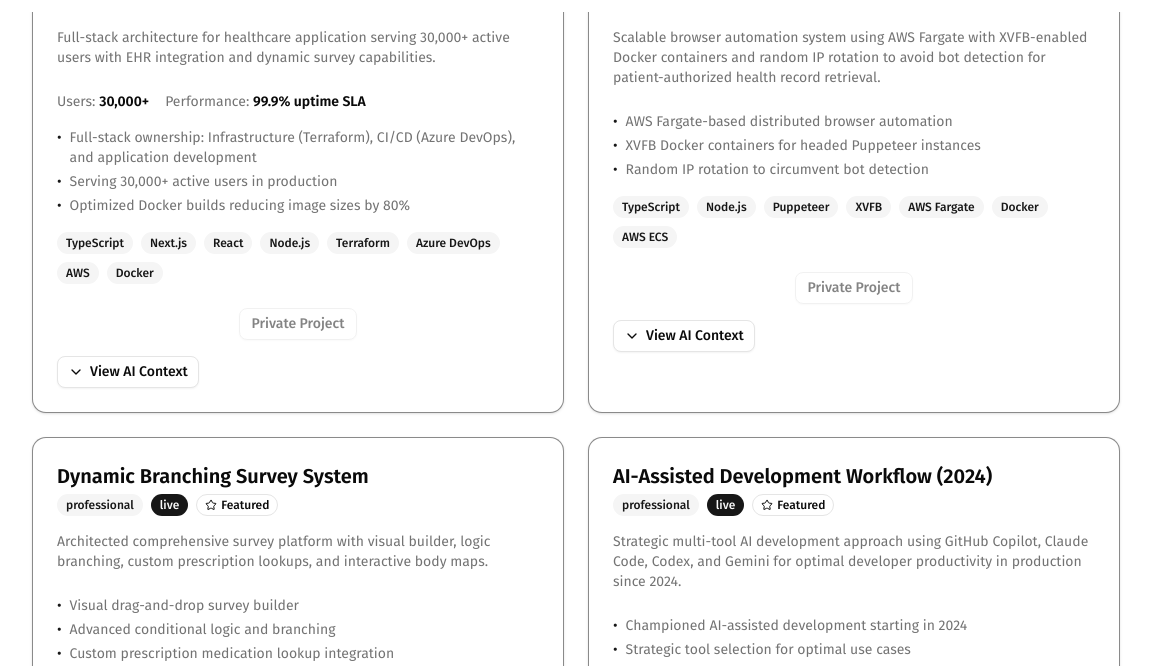
Test: ProjectsPage - T014: ExpandableContext Integration › Context Expansion Functionality › should expand to show STAR context when button is clicked
The image size is (1152, 666).
// Click to expand
Click the button "View AI Context" below "Users:" at (128,372), box [57, 356, 199, 388]
(page scrolled)
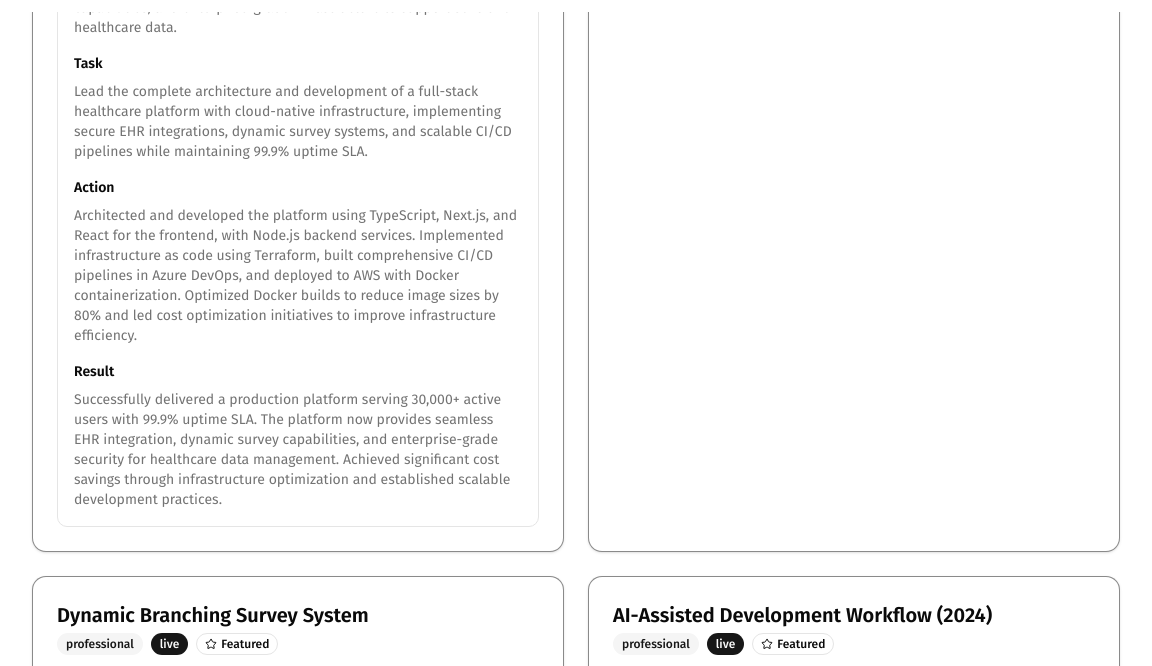
Check: the heading "Task" is shown, box [74, 55, 103, 72]
Check: the heading "Action" is shown, box [74, 179, 114, 196]
Check: the heading "Result" is shown, box [74, 363, 114, 380]
